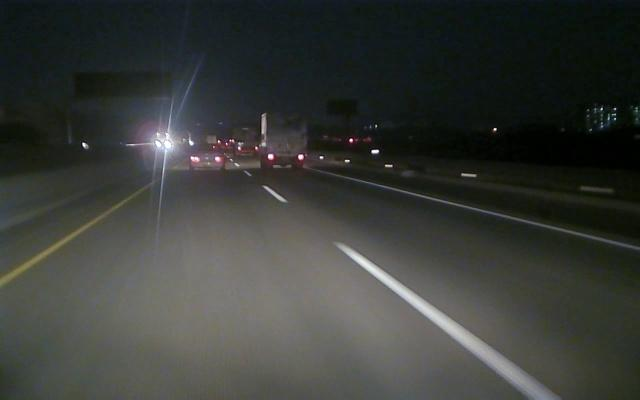lane: (263, 187, 563, 399), (346, 176, 640, 253), (1, 188, 143, 286)
